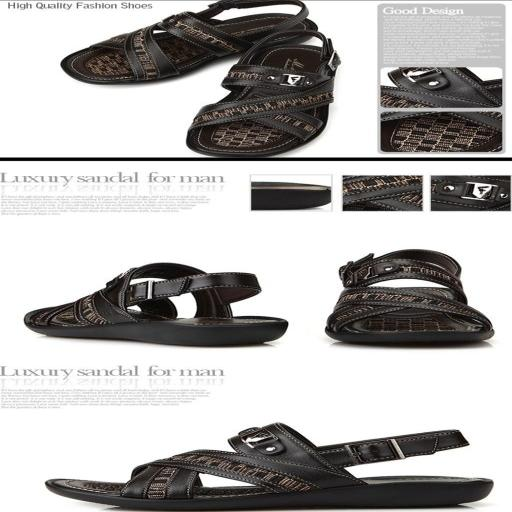sandal: (46, 423, 493, 511), (25, 263, 288, 346), (62, 0, 317, 84), (187, 30, 340, 157), (326, 250, 494, 342), (381, 68, 502, 110), (381, 111, 502, 153), (343, 176, 423, 211), (431, 176, 511, 211), (252, 182, 332, 210)
